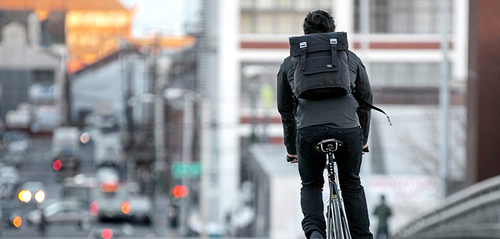bikerider: (270, 9, 397, 239)
